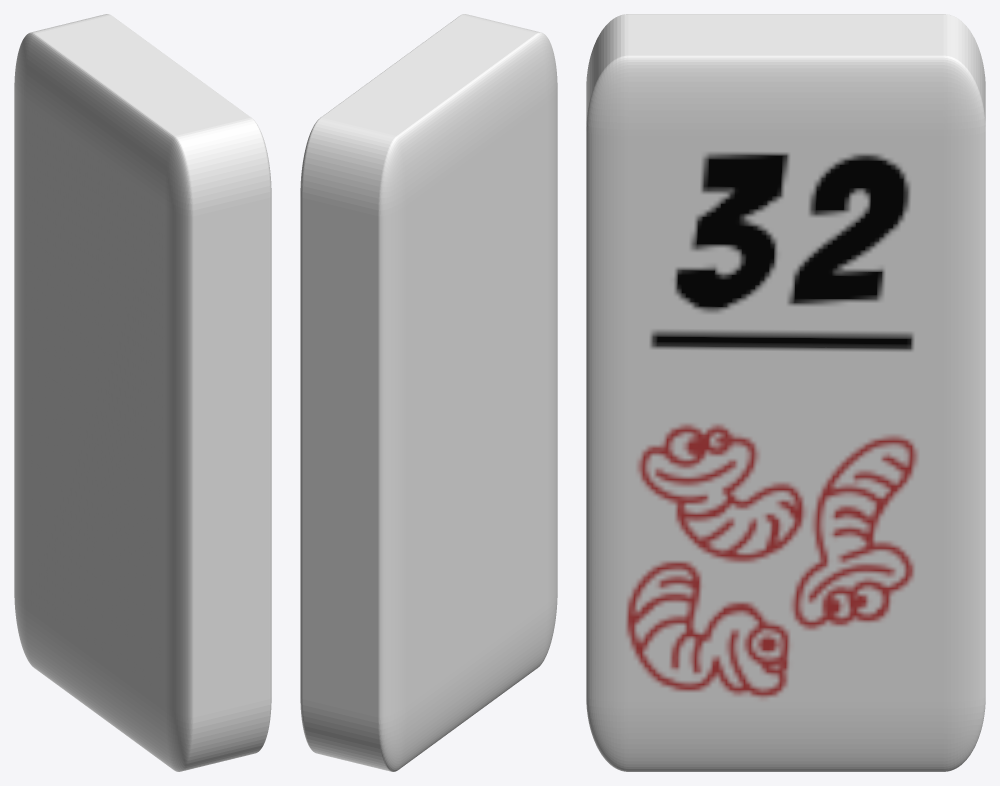
File: pickomino3d-32.dae
The picture shows the model from 3 angles, left to right: view 1: azimuth 30°, elevation 25°; view 2: azimuth 150°, elevation 25°; view 3: azimuth 270°, elevation 25°; orthographic projection. The views are drawn at different scales.
Parts seen in each view (by area): view 1: Cube; view 2: Cube; view 3: Cube.
Boxes of the visible parts, x1,y1,x2,y2 form: Cube: (14, 14, 271, 771); Cube: (300, 14, 557, 771); Cube: (586, 14, 985, 771).
Bounding box in the file's own units: 0.3683 × 1.19 × 2.35.
1 material, 1 textured.
